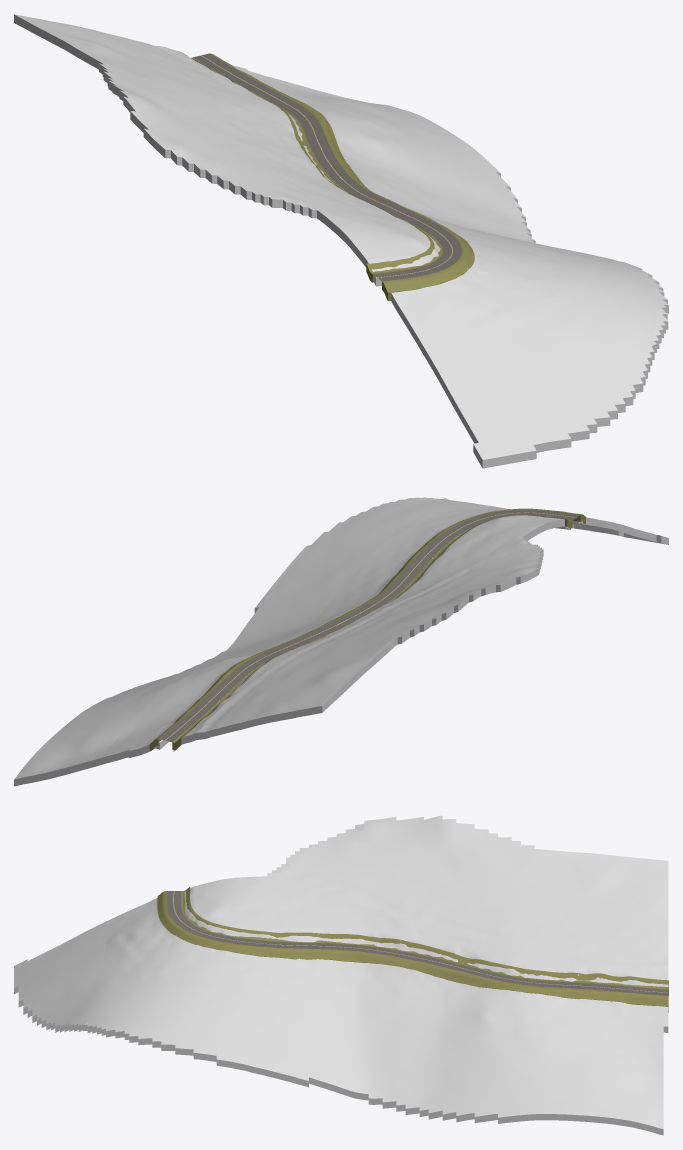
Rendered from conz_202.glb.
The picture shows the model from 3 angles, top to bottom: view 1: azimuth 30°, elevation 25°; view 2: azimuth 150°, elevation 25°; view 3: azimuth 270°, elevation 25°; orthographic projection. The views are drawn at different scales.
Parts seen in each view (by area): view 1: terrain202, road202, verge202R, verge202L; view 2: terrain202, road202, verge202R, verge202L, paint_yellow202; view 3: terrain202, verge202R, road202, verge202L.
Part boxes in pixels (x1,y1,x2,y2): terrain202: (14,14,668,468); road202: (193,53,462,281); verge202R: (210,53,474,301); verge202L: (182,52,442,282); terrain202: (14,497,668,786); road202: (159,509,580,742); verge202R: (149,508,585,750); verge202L: (172,514,572,749); paint_yellow202: (165,512,576,740); terrain202: (14,815,668,1135); verge202R: (157,891,668,1012); road202: (166,891,668,995); verge202L: (180,887,668,995).
Size of the model in its own units: 158 by 81.43 by 284.
